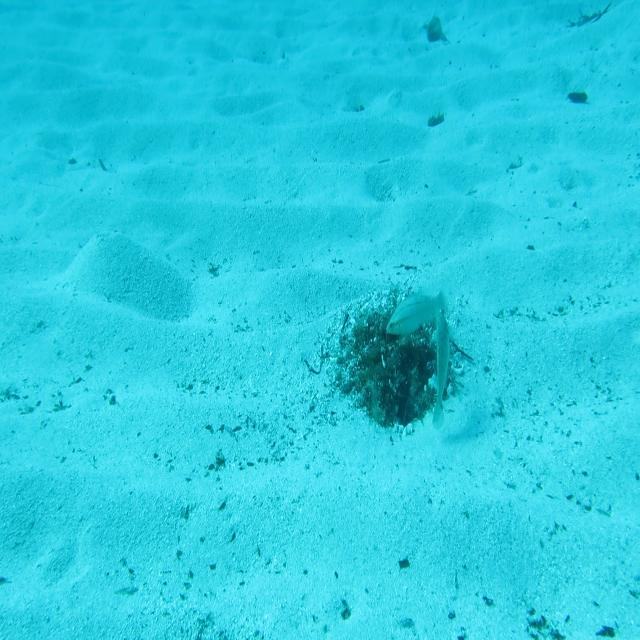GB: (424, 303, 454, 441)
female: (379, 284, 447, 336)
nest: (336, 288, 462, 450)
